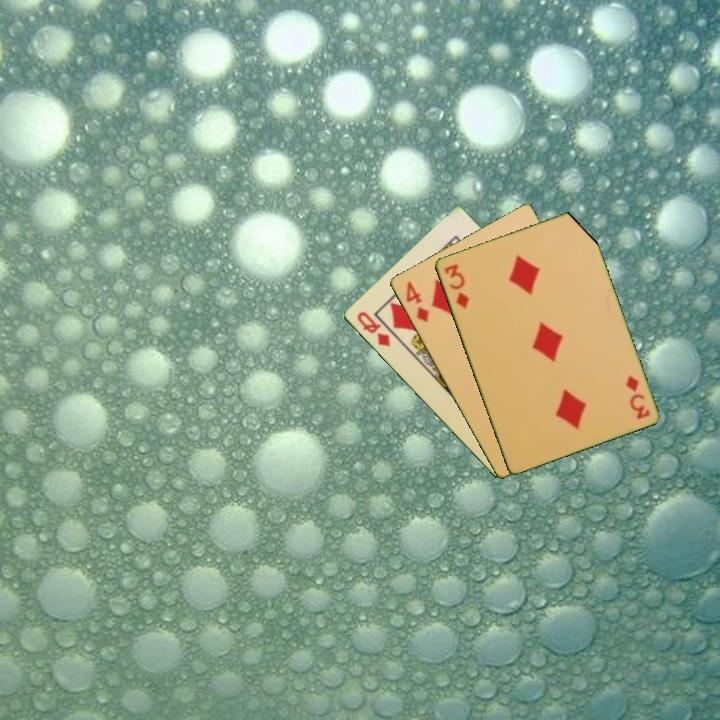3d: (440, 260, 472, 311), (622, 371, 652, 422)
4d: (402, 277, 432, 325)
Qd: (353, 308, 393, 350)
